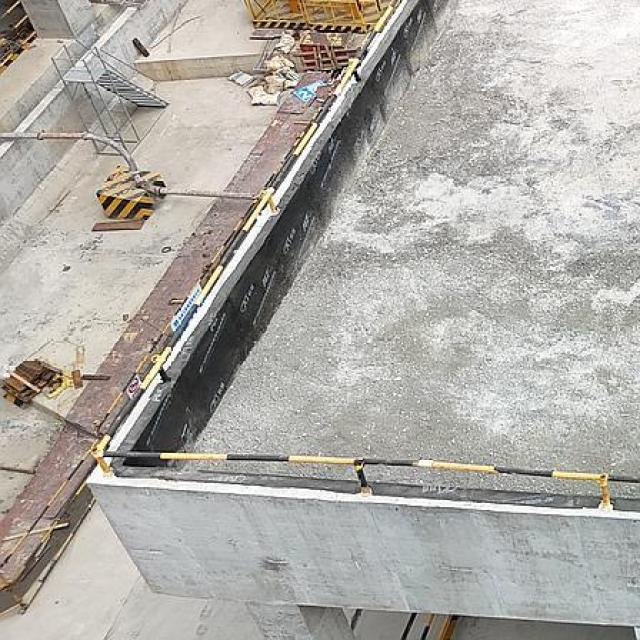edge_guardrail: (88, 1, 640, 512), (0, 0, 37, 69)
